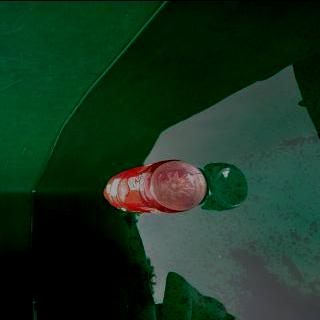bottle: (102, 158, 208, 212)
